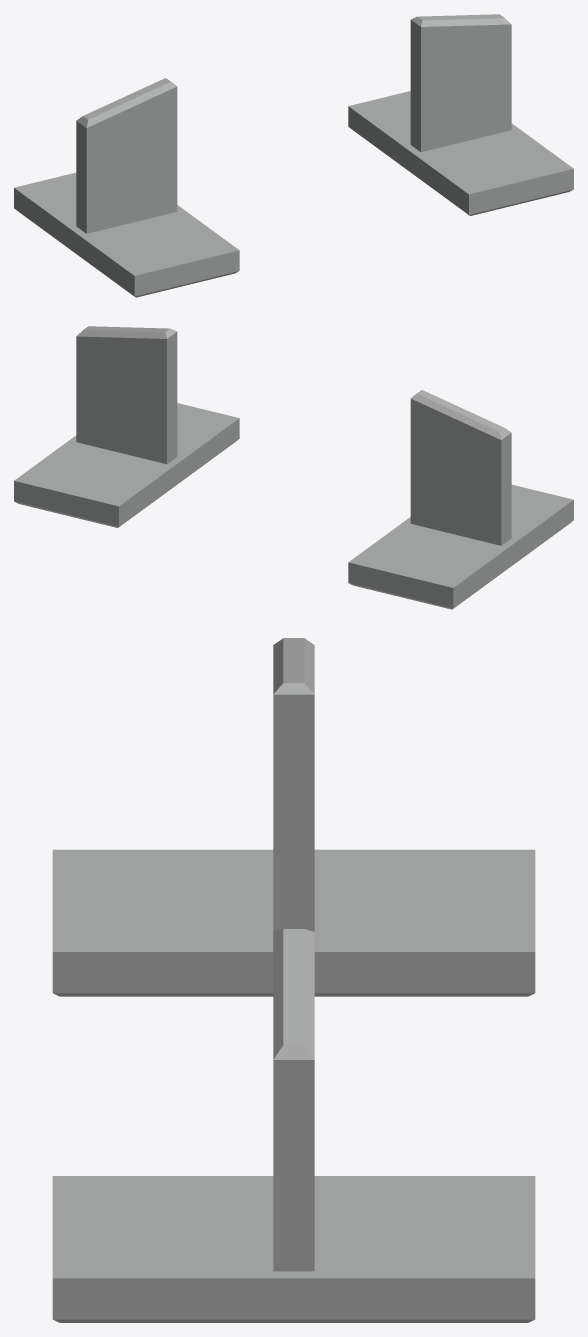
The model's file is lampa.fbx.
The picture shows the model from 3 angles, top to bottom: view 1: azimuth 30°, elevation 25°; view 2: azimuth 150°, elevation 25°; view 3: azimuth 270°, elevation 25°; orthographic projection. The views are drawn at different scales.
Parts seen in each view (by area): view 1: Cube.005; view 2: Cube.005; view 3: Cube.005.
Boxes of the visible parts, left/top/right/bottom form: Cube.005: left=14, top=14, right=573, bottom=297; Cube.005: left=14, top=326, right=573, bottom=609; Cube.005: left=52, top=638, right=535, bottom=1322.
Bounding box in the file's own units: 5.24 × 1.74 × 2.49.
